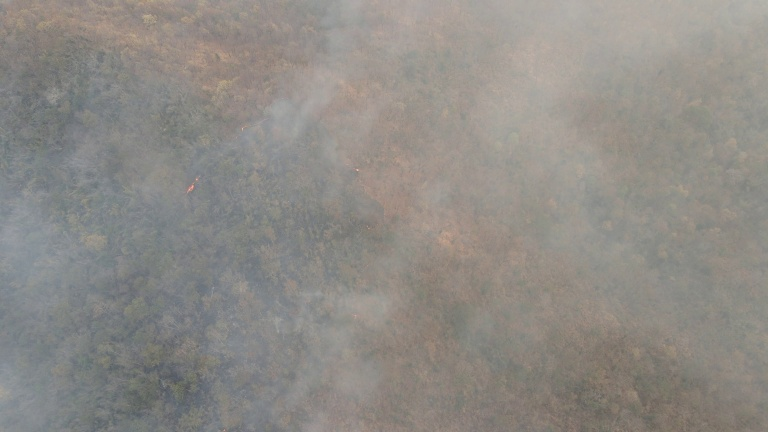fire: (182, 167, 204, 205)
smoke: (2, 1, 768, 428)
